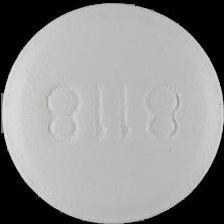0093-8118: (0, 0, 224, 224)
